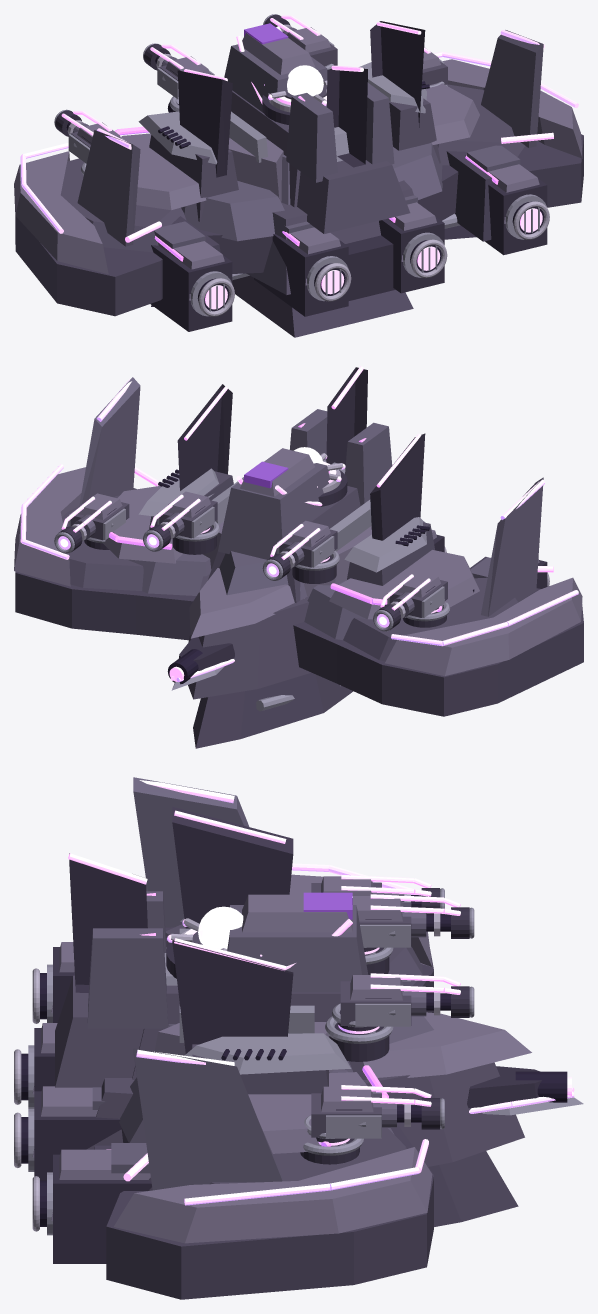
File: Simulant_Dreadwing_Assembly_FINALglb.glb
The picture shows the model from 3 angles, top to bottom: view 1: azimuth 30°, elevation 25°; view 2: azimuth 150°, elevation 25°; view 3: azimuth 270°, elevation 25°; orthographic projection. The views are drawn at different scales.
Visible parts, largest first — view 1: 20_L_Wing_Core, 23_L_Outer_Lance, 40_Heavy_Rear_Spine, 30_L_Tall_Outer_Fin, 30_R_Tall_Outer_Fin, 00_Keel_Belly_Shadow, 20_R_Wing_Core, 21_L_Wing_Root_Heavy, 32_L_Tall_Inner_Fin, 57_L_Aft_Pylon, 32_R_Tall_Inner_Fin, 60_Engine_01_Anchor (+43 smaller); view 2: 20_L_Wing_Core, 23_L_Outer_Lance, 20_R_Wing_Core, 01_Main_Hull_Core, 00_Keel_Belly_Shadow, 11_Tall_Bridge, 30_L_Tall_Outer_Fin, 30_R_Tall_Outer_Fin, 23_R_Outer_Lance, 02_Nose_Armour, 24_L_Wing_Carapace, 32_R_Tall_Inner_Fin (+26 smaller); view 3: 20_R_Wing_Core, 23_R_Outer_Lance, 30_R_Tall_Outer_Fin, 32_R_Tall_Inner_Fin, 32_L_Tall_Inner_Fin, 01_Main_Hull_Core, 57_R_Aft_Pylon, 11_Tall_Bridge, 02_Nose_Armour, 30_L_Tall_Outer_Fin, 40_Heavy_Rear_Spine, 80_Rear_Central_Razor (+42 smaller).
Boxes of the visible parts, left/top/right/bottom form: 20_L_Wing_Core: left=15, top=216, right=272, bottom=316; 23_L_Outer_Lance: left=14, top=151, right=108, bottom=274; 40_Heavy_Rear_Spine: left=297, top=160, right=410, bottom=233; 30_L_Tall_Outer_Fin: left=77, top=130, right=140, bottom=246; 30_R_Tall_Outer_Fin: left=481, top=30, right=543, bottom=147; 00_Keel_Belly_Shadow: left=232, top=275, right=413, bottom=337; 20_R_Wing_Core: left=418, top=134, right=583, bottom=220; 21_L_Wing_Root_Heavy: left=181, top=181, right=284, bottom=241; 32_L_Tall_Inner_Fin: left=177, top=70, right=232, bottom=177; 57_L_Aft_Pylon: left=286, top=93, right=337, bottom=182; 32_R_Tall_Inner_Fin: left=370, top=21, right=425, bottom=127; 60_Engine_01_Anchor: left=150, top=245, right=232, bottom=331; 20_L_Wing_Core: left=293, top=588, right=583, bottom=716; 23_L_Outer_Lance: left=385, top=577, right=582, bottom=675; 20_R_Wing_Core: left=15, top=488, right=196, bottom=640; 01_Main_Hull_Core: left=188, top=574, right=310, bottom=699; 00_Keel_Belly_Shadow: left=193, top=672, right=353, bottom=748; 11_Tall_Bridge: left=218, top=463, right=334, bottom=559; 30_L_Tall_Outer_Fin: left=481, top=477, right=543, bottom=616; 30_R_Tall_Outer_Fin: left=79, top=377, right=140, bottom=506; 23_R_Outer_Lance: left=14, top=467, right=85, bottom=586; 02_Nose_Armour: left=189, top=568, right=304, bottom=638; 24_L_Wing_Carapace: left=329, top=550, right=479, bottom=619; 32_R_Tall_Inner_Fin: left=177, top=384, right=232, bottom=490; 20_R_Wing_Core: left=106, top=1124, right=433, bottom=1299; 23_R_Outer_Lance: left=114, top=1147, right=432, bottom=1243; 30_R_Tall_Outer_Fin: left=133, top=1048, right=282, bottom=1190; 32_R_Tall_Inner_Fin: left=172, top=940, right=293, bottom=1053; 32_L_Tall_Inner_Fin: left=172, top=807, right=293, bottom=928; 01_Main_Hull_Core: left=86, top=1062, right=524, bottom=1166; 57_R_Aft_Pylon: left=87, top=928, right=168, bottom=1028; 11_Tall_Bridge: left=227, top=905, right=368, bottom=992; 02_Nose_Armour: left=363, top=1012, right=531, bottom=1078; 30_L_Tall_Outer_Fin: left=133, top=777, right=249, bottom=927; 40_Heavy_Rear_Spine: left=55, top=975, right=143, bottom=1087; 80_Rear_Central_Razor: left=69, top=853, right=147, bottom=992.
Size of the model in its own units: 13.72 by 6.5 by 9.51.
